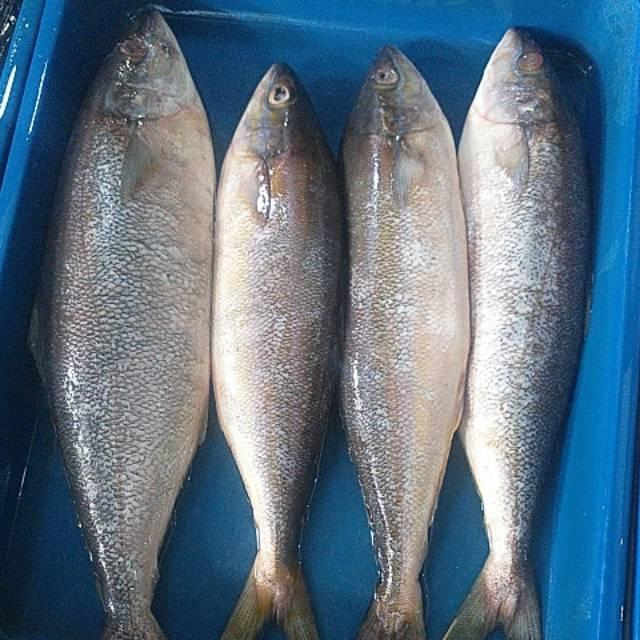salmon: (24, 3, 220, 640), (441, 26, 620, 631), (208, 22, 350, 640), (340, 20, 462, 640)
